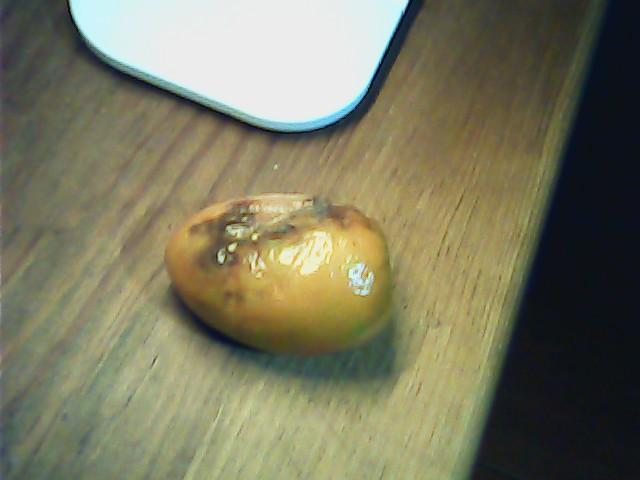defectuoso: (164, 196, 392, 357)
